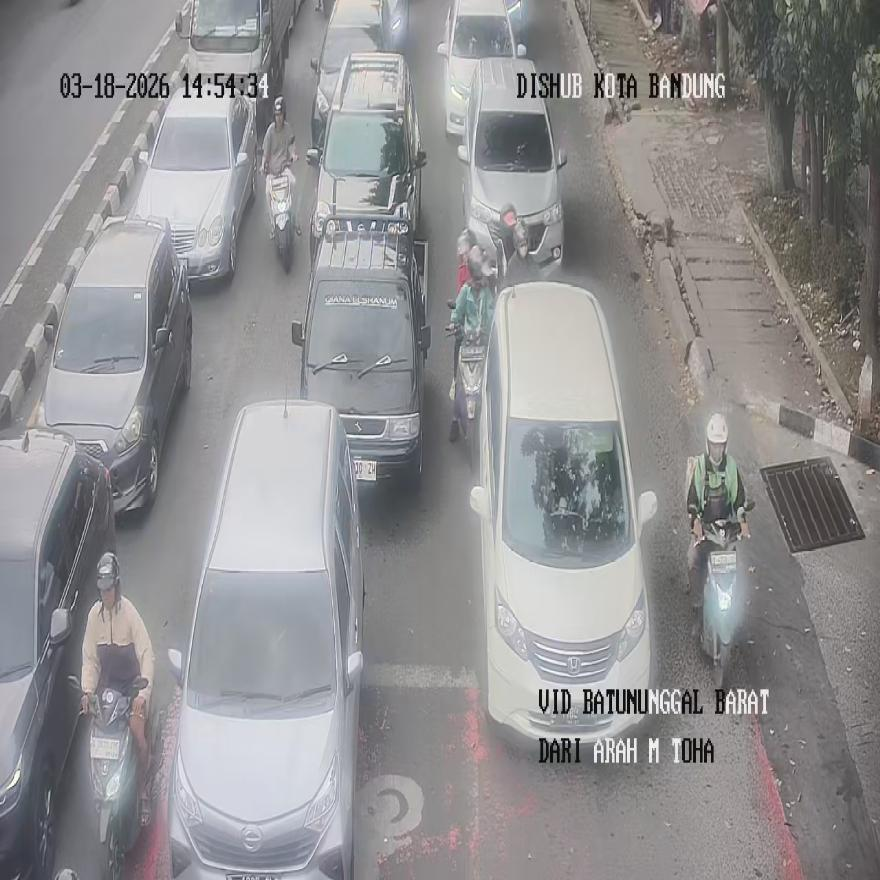Mobil: (166, 400, 364, 878), (469, 281, 658, 746), (0, 429, 118, 879), (39, 215, 192, 516), (292, 220, 430, 485), (306, 50, 426, 268), (131, 85, 256, 282), (457, 56, 567, 276), (178, 0, 294, 117), (309, 0, 396, 154), (437, 0, 526, 137)
Motor: (78, 678, 152, 880), (695, 518, 745, 702), (446, 302, 486, 467), (266, 166, 296, 273)
